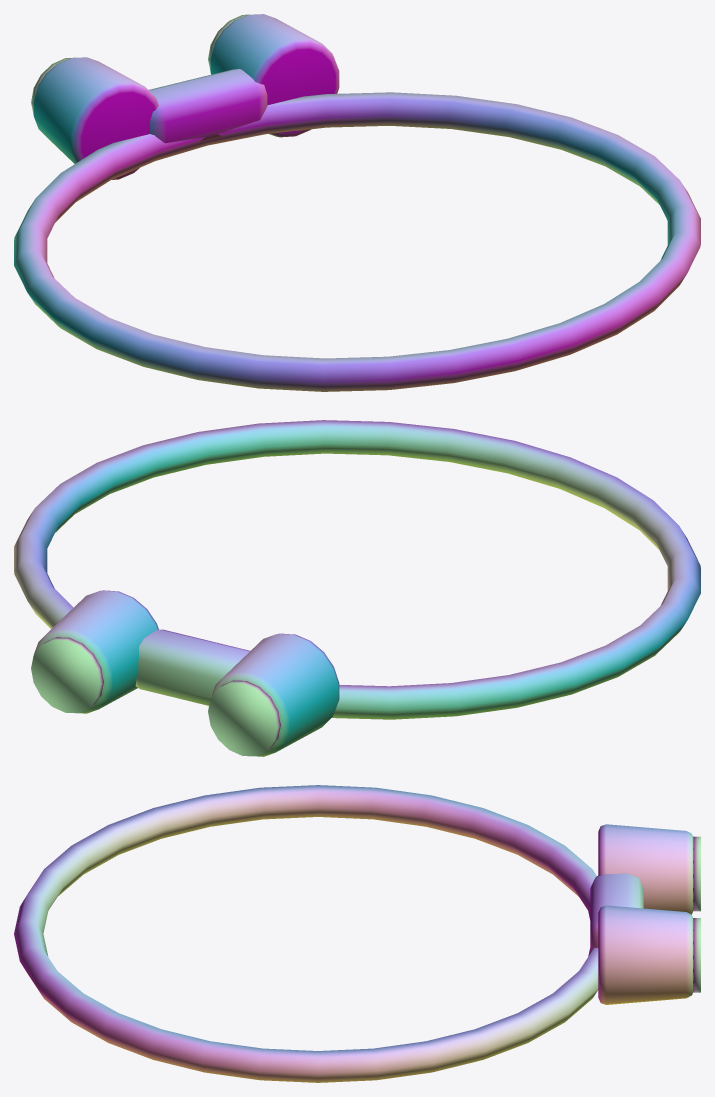
The model's file is acc_nvg.glb.
3 renders of one model, top to bottom at view 1: azimuth 30°, elevation 25°; view 2: azimuth 150°, elevation 25°; view 3: azimuth 270°, elevation 25°, orthographic. The views are drawn at different scales.
Parts seen in each view (by area): view 1: nvg; view 2: nvg; view 3: nvg.
Boxes of the visible parts, x1,y1,x2,y2 form: nvg: (14,14,700,391); nvg: (14,420,700,756); nvg: (14,785,700,1082).
Bounding box in the file's own units: 0.248 × 0.0375 × 0.2576.
